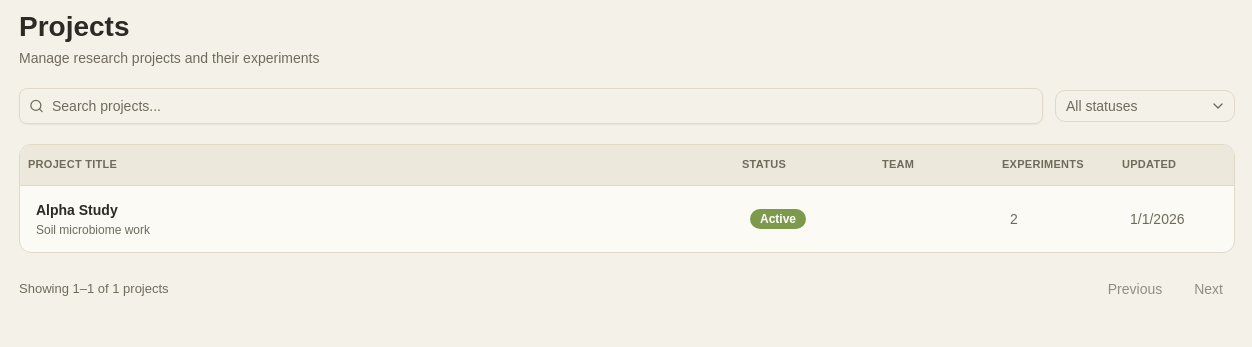
Test: ProjectsPage › should filter out rows that do not match the search
In the field with placeholder "Search projects...": {"x": 531, "y": 106} x1=19 y1=88 x2=1043 y2=124, type "zzz"
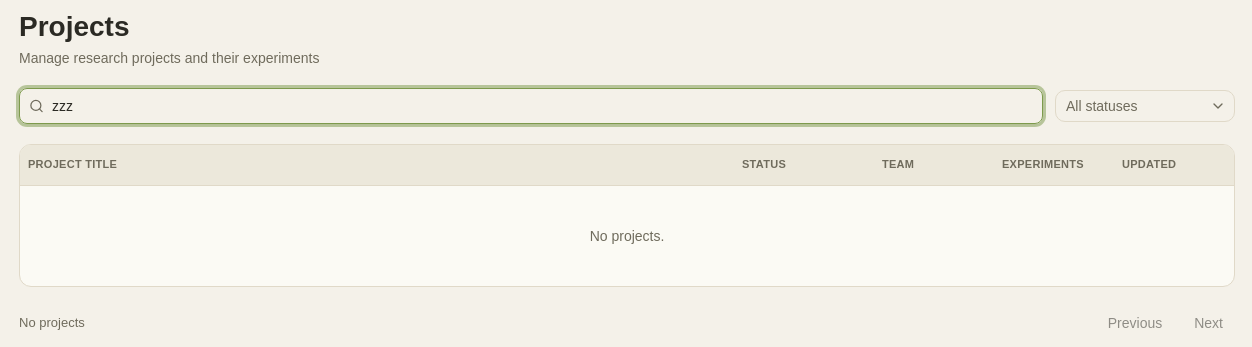
Now the text "Alpha Study" is gone
